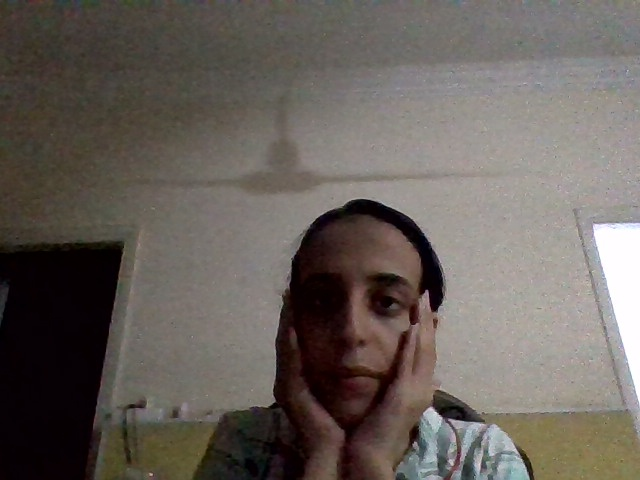ThankYou: (274, 288, 438, 458)
